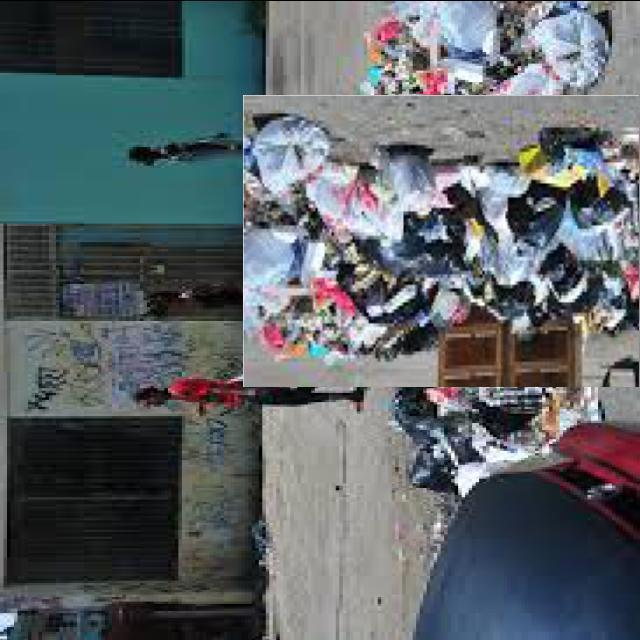Trashbag: (502, 177, 567, 256), (406, 433, 480, 499), (387, 382, 456, 443), (573, 180, 629, 240), (414, 231, 470, 279), (545, 251, 588, 299), (486, 277, 537, 314)
